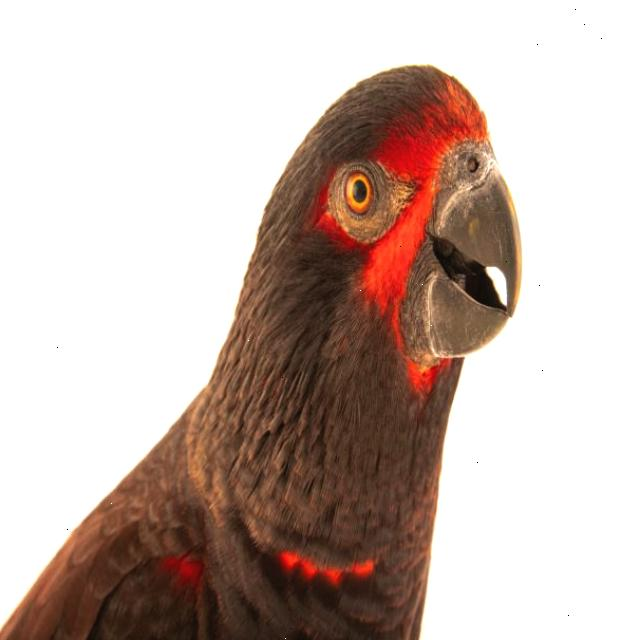Nuri Hitam: (0, 28, 547, 640)
